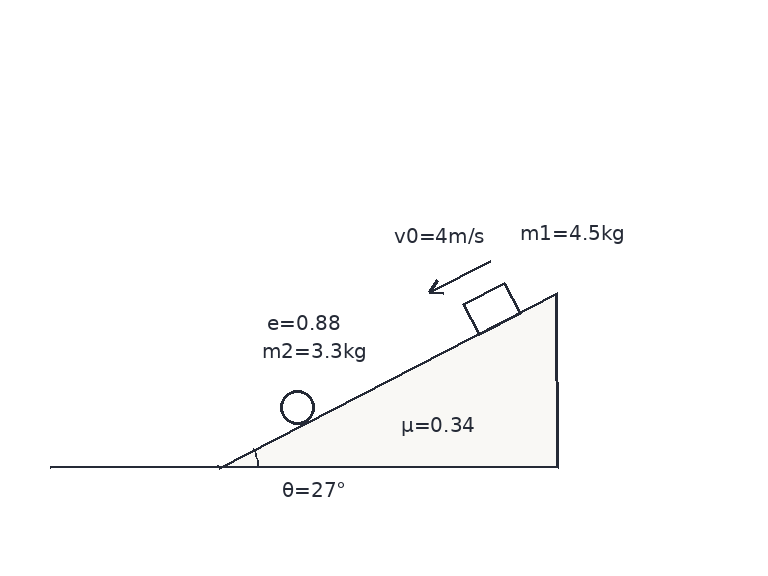ball: (278, 388, 316, 426)
block: (461, 281, 522, 336)
ramp: (216, 292, 559, 469)
